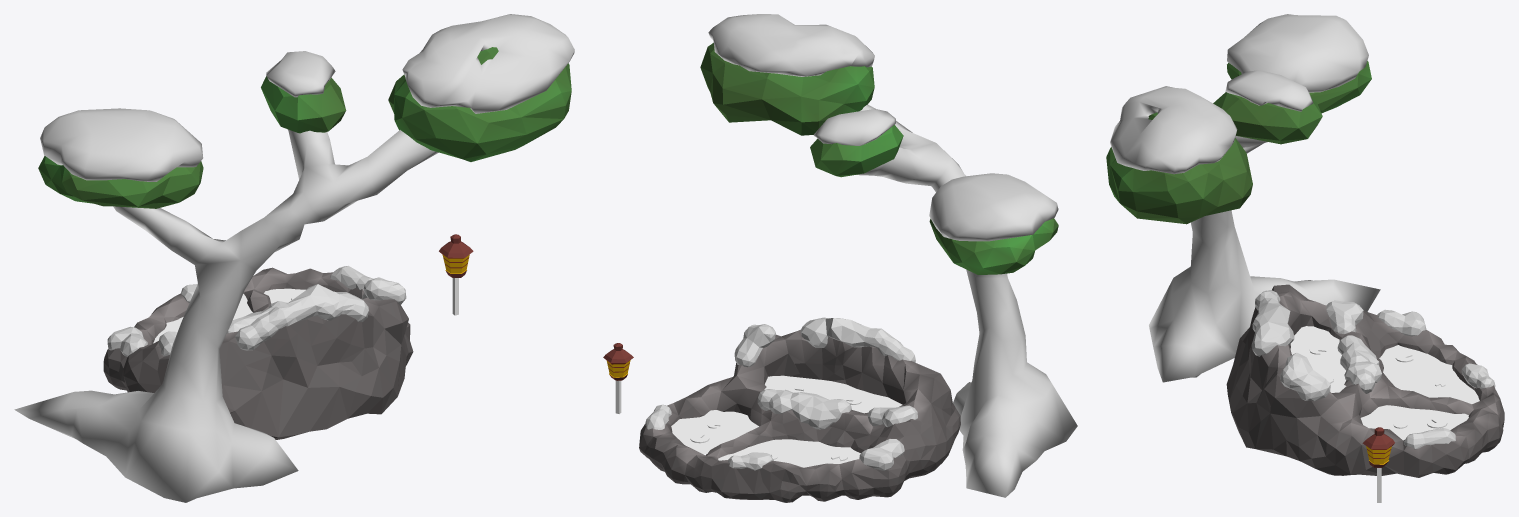
Rendered from TreePond.fbx.
3 renders of one model, left to right at view 1: azimuth 30°, elevation 25°; view 2: azimuth 150°, elevation 25°; view 3: azimuth 270°, elevation 25°, orthographic. The views are drawn at different scales.
Parts seen in each view (by area): view 1: PondTree, PondRocks, PondTreeSnow, PondTreeLeaves, PondRocksSnow, PondLamp, PondWater; view 2: PondRocks, PondTree, PondTreeSnow, PondTreeLeaves, PondRocksSnow, PondWater, PondLamp, PondLotus; view 3: PondRocks, PondTreeSnow, PondTree, PondTreeLeaves, PondRocksSnow, PondWater, PondLamp, PondLotus.
Part boxes in pixels (bbox=[...]): PondTree: bbox=[14, 129, 438, 502]; PondRocks: bbox=[103, 267, 413, 439]; PondTreeSnow: bbox=[40, 14, 574, 181]; PondTreeLeaves: bbox=[38, 47, 571, 208]; PondRocksSnow: bbox=[107, 266, 406, 356]; PondLamp: bbox=[439, 234, 473, 277]; PondWater: bbox=[153, 288, 336, 343]; PondRocks: bbox=[639, 329, 960, 502]; PondTree: bbox=[856, 104, 1077, 497]; PondTreeSnow: bbox=[708, 14, 1058, 241]; PondTreeLeaves: bbox=[700, 43, 1058, 274]; PondRocksSnow: bbox=[645, 317, 917, 470]; PondWater: bbox=[671, 375, 902, 467]; PondLamp: bbox=[603, 343, 633, 380]; PondLotus: bbox=[690, 384, 861, 461]; PondRocks: bbox=[1226, 284, 1504, 477]; PondTreeSnow: bbox=[1110, 14, 1368, 174]; PondTree: bbox=[1149, 136, 1380, 382]; PondTreeLeaves: bbox=[1106, 61, 1371, 224]; PondRocksSnow: bbox=[1251, 290, 1495, 449]; PondWater: bbox=[1290, 326, 1479, 440]; PondLamp: bbox=[1362, 427, 1394, 467]; PondLotus: bbox=[1309, 346, 1447, 428].
Bounding box in the file's own units: 1198 × 1007 × 965.
